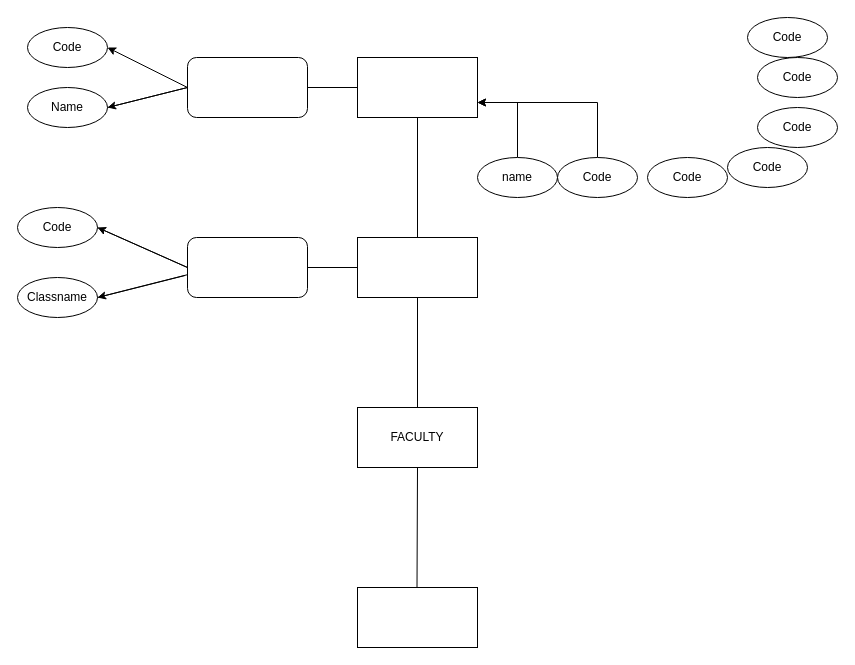
The diagram is 855 pixels wide and 665 high, and some of its shapes have lost their labels. The centre of each missing label's shape, as x and y in pixels:
ADVICER: point 417,267
Classrom: point 247,267
Department: point 247,87
HOD: point 417,87
STUDENT: point 417,617
